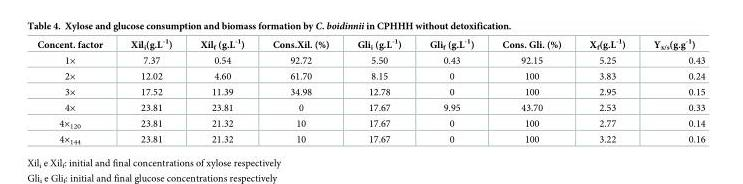table: (36, 37, 704, 145)
table column: (487, 37, 574, 145), (257, 37, 342, 145), (36, 37, 116, 145), (414, 37, 487, 145), (185, 37, 257, 145), (342, 37, 414, 145), (116, 37, 185, 145), (638, 37, 704, 145), (574, 37, 638, 145)
table column header: (36, 37, 704, 51)
table row: (36, 51, 704, 67), (36, 67, 704, 83), (36, 83, 704, 99), (36, 99, 704, 115), (36, 115, 704, 130), (36, 130, 704, 145), (36, 37, 704, 51)
